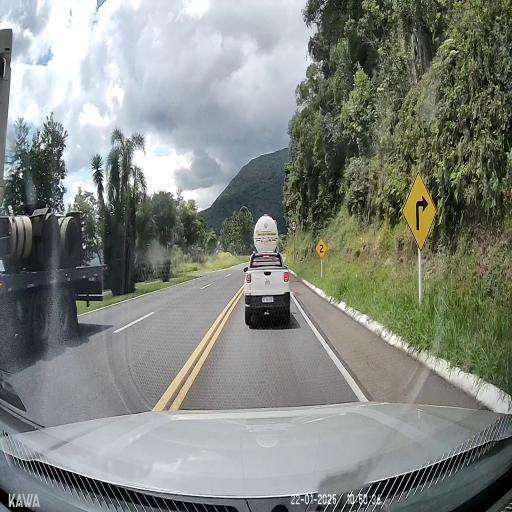A-1b: (401, 172, 437, 252)
R-19: (291, 220, 296, 232)
